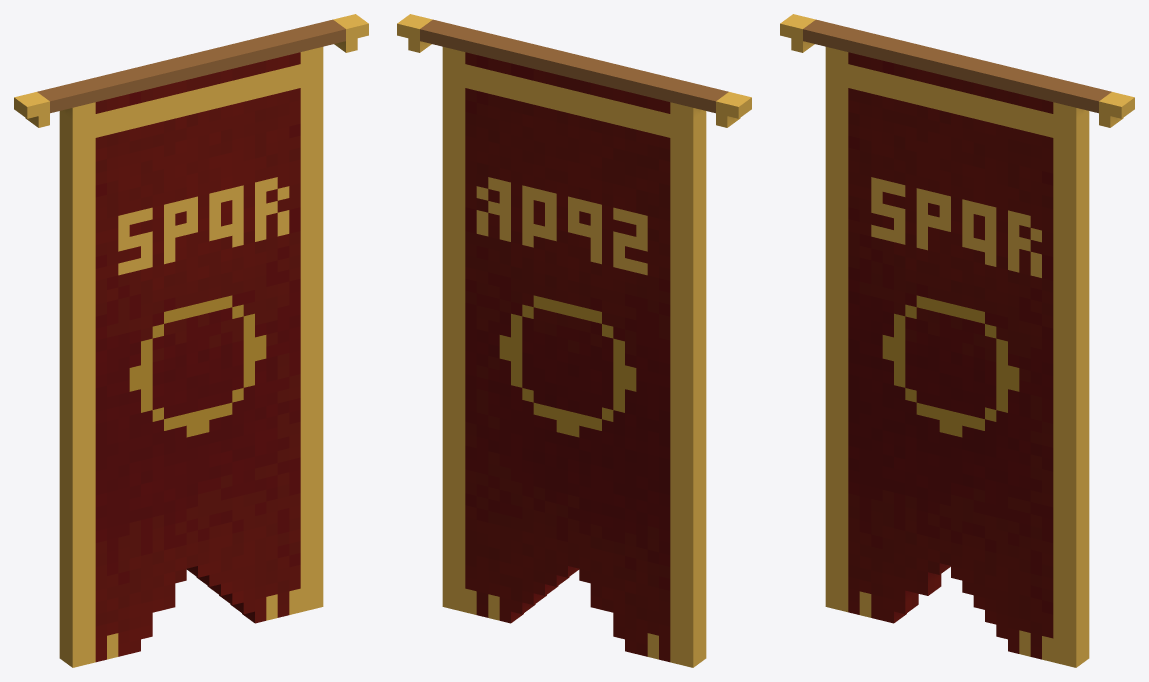
The model's file is banner.glb.
3 views of the same model, side by side, from view 1: azimuth 30°, elevation 25°; view 2: azimuth 150°, elevation 25°; view 3: azimuth 330°, elevation 25° (orthographic).
Visible parts, largest first — view 1: banner; view 2: banner; view 3: banner.
Part boxes in pixels (x1=…): banner: x1=14, y1=14, x2=368, y2=667; banner: x1=397, y1=14, x2=751, y2=667; banner: x1=780, y1=14, x2=1134, y2=667.
Bounding box in the file's own units: 1.5 × 2.4 × 0.1.
